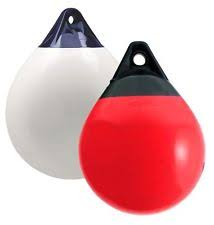buoy: (80, 97, 204, 213)
